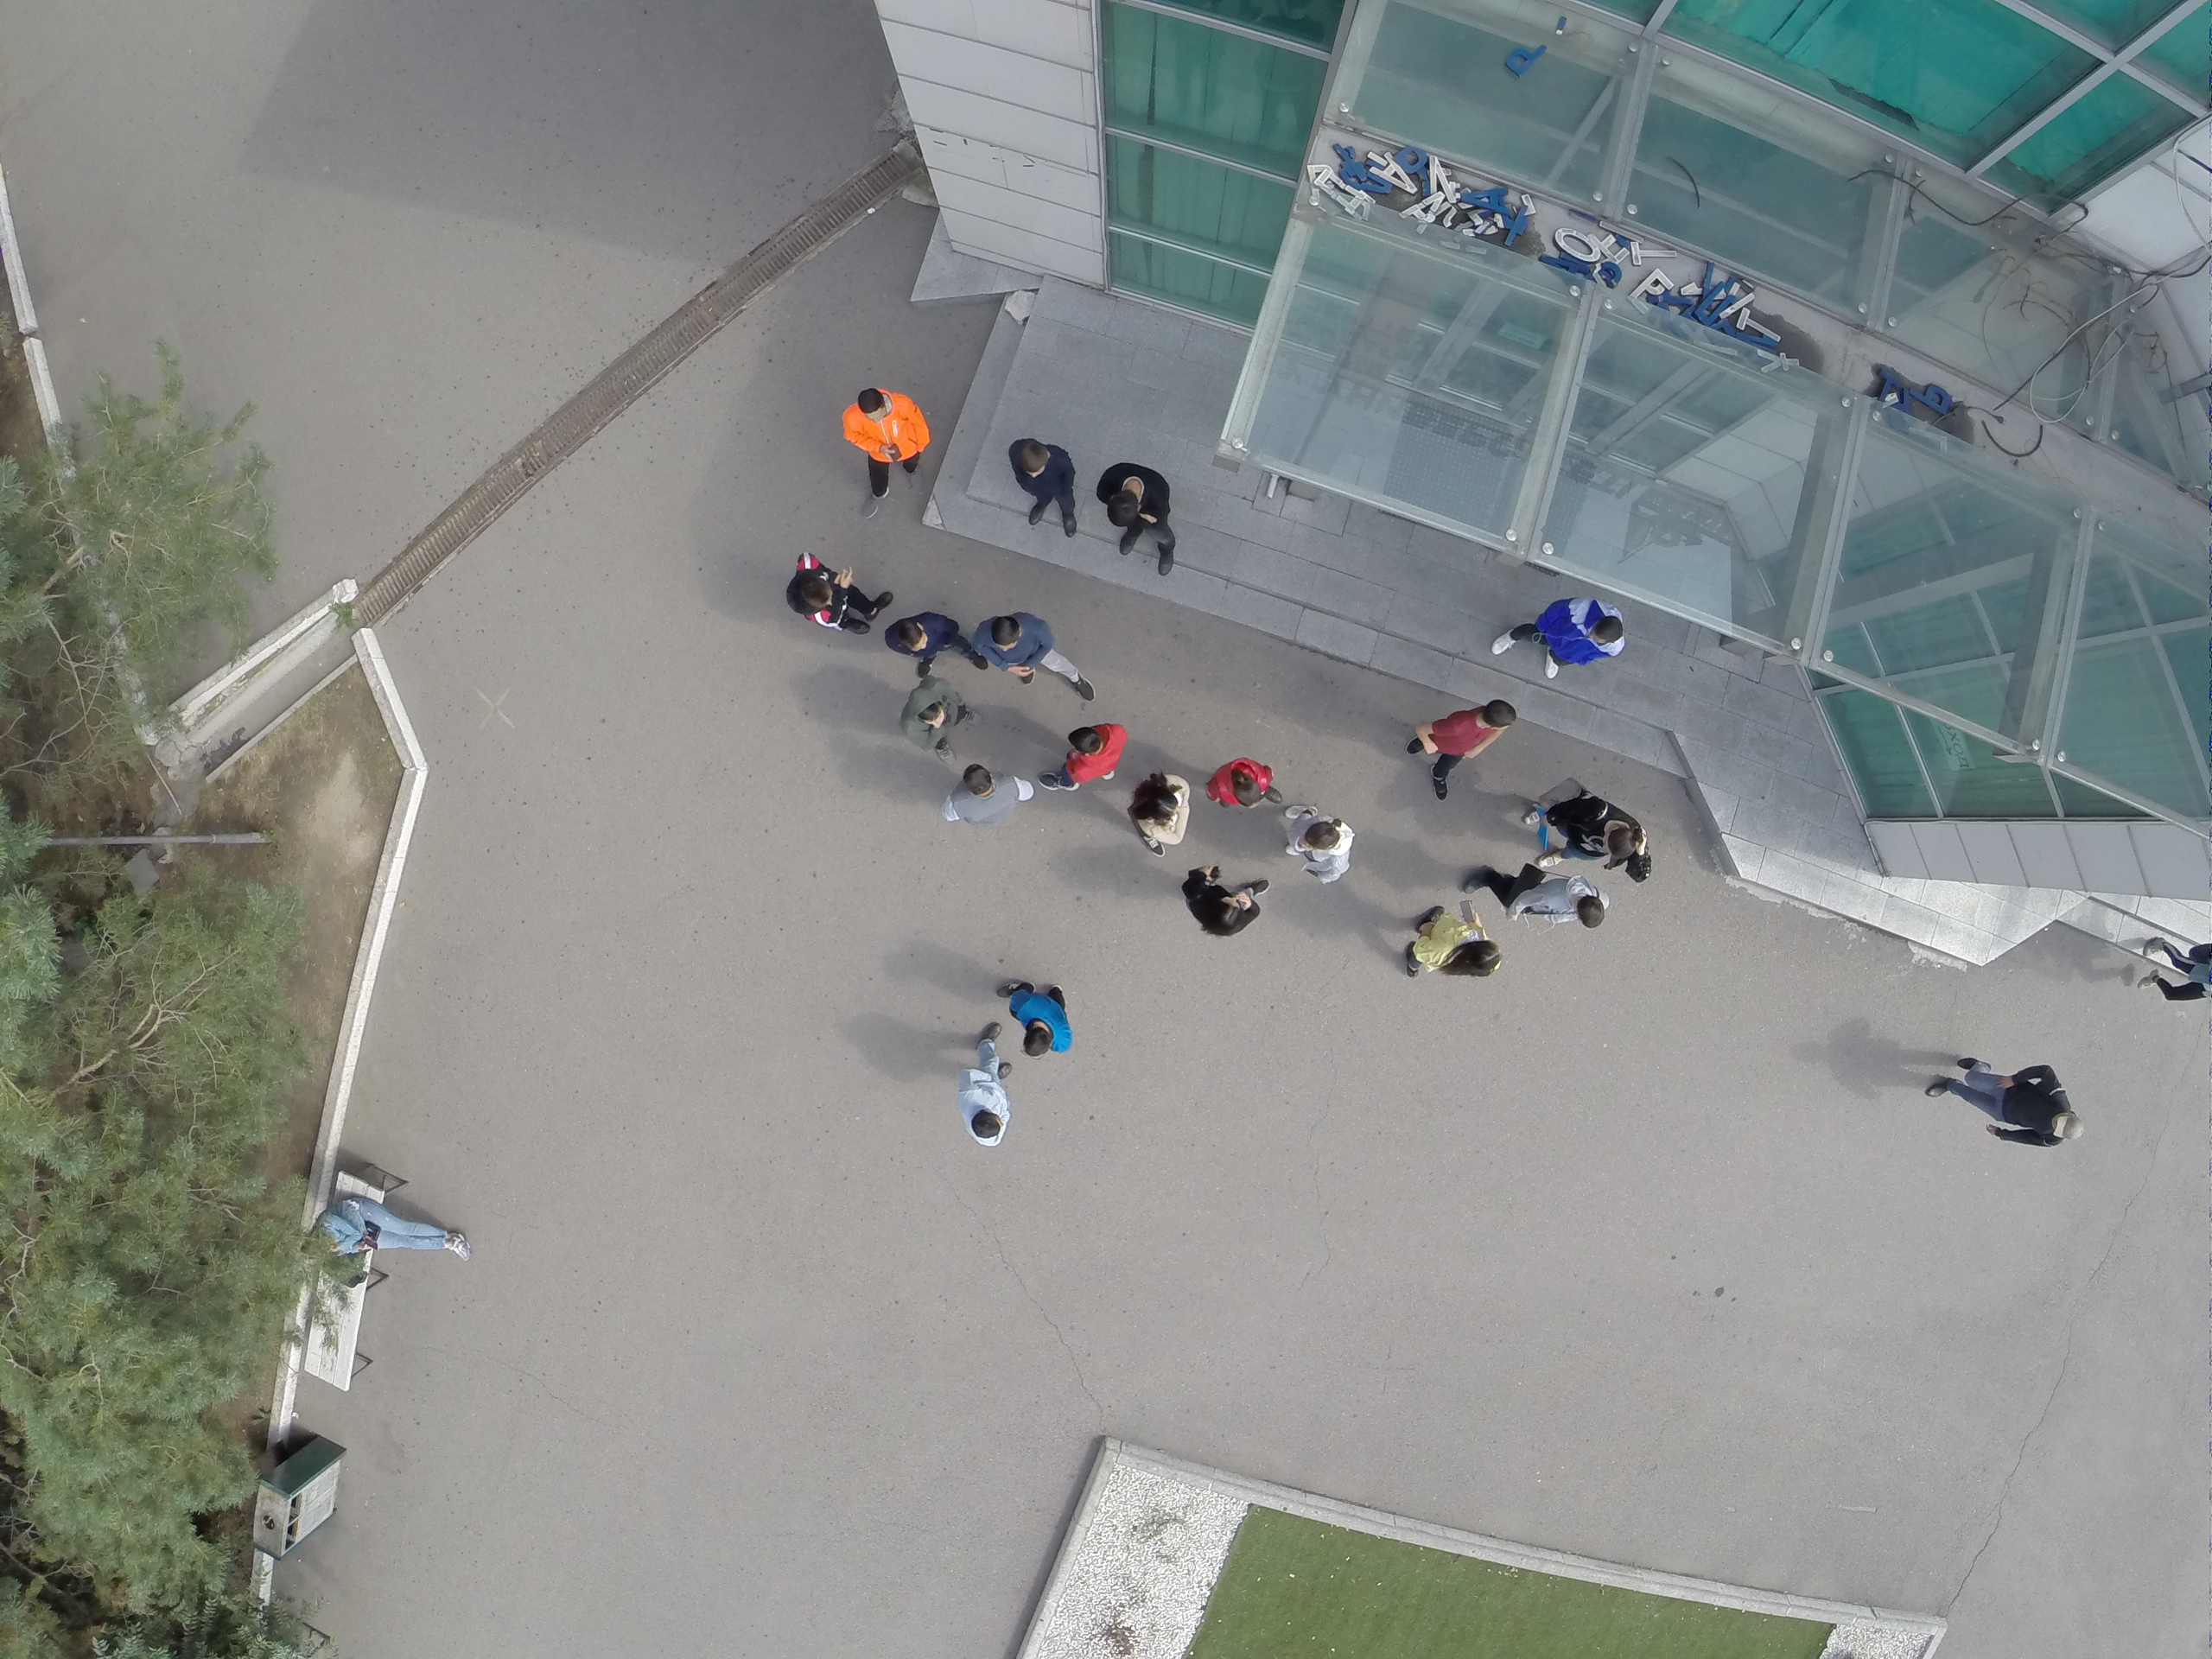person: (1924, 1052, 2084, 1150), (1514, 782, 1656, 886), (840, 380, 933, 524), (1486, 589, 1629, 683), (1407, 689, 1516, 804), (302, 1196, 477, 1262), (1469, 863, 1608, 935), (787, 548, 891, 644), (1095, 460, 1178, 578), (943, 1021, 1014, 1149), (1399, 900, 1506, 978), (1003, 437, 1082, 540), (883, 607, 988, 681), (999, 976, 1074, 1063), (938, 760, 1035, 828), (898, 679, 981, 758), (1189, 865, 1270, 944), (1285, 805, 1357, 887), (1043, 721, 1127, 791), (1136, 771, 1189, 860), (1208, 758, 1274, 812)
